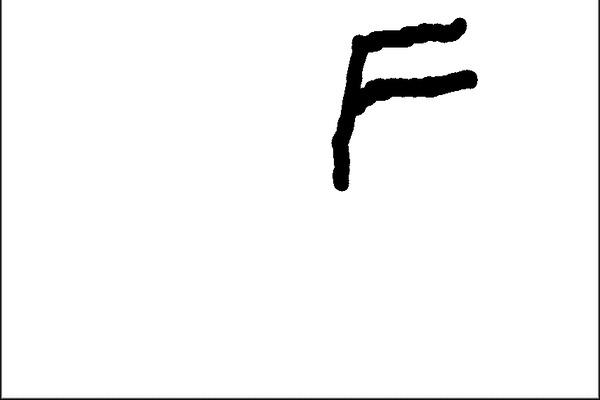F: (323, 11, 480, 197)
